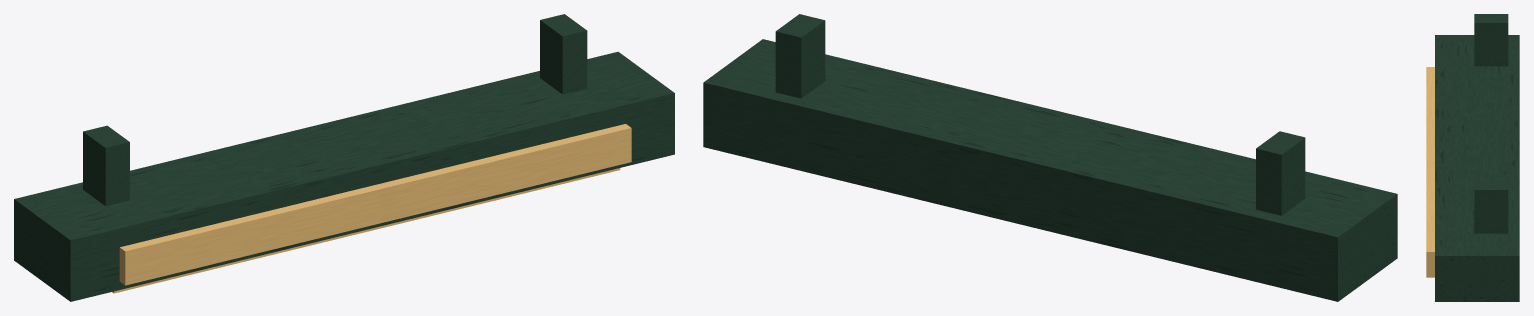
The model's file is StripLight.fbx.
3 renders of one model, left to right at view 1: azimuth 30°, elevation 25°; view 2: azimuth 150°, elevation 25°; view 3: azimuth 270°, elevation 25°, orthographic. The views are drawn at different scales.
Parts seen in each view (by area): view 1: StripLight; view 2: StripLight; view 3: StripLight.
Boxes of the visible parts, x1,y1,x2,y2 form: StripLight: [14, 14, 674, 301]; StripLight: [703, 14, 1397, 301]; StripLight: [1426, 14, 1519, 301].
Bounding box in the file's own units: 185 × 37.25 × 33.
